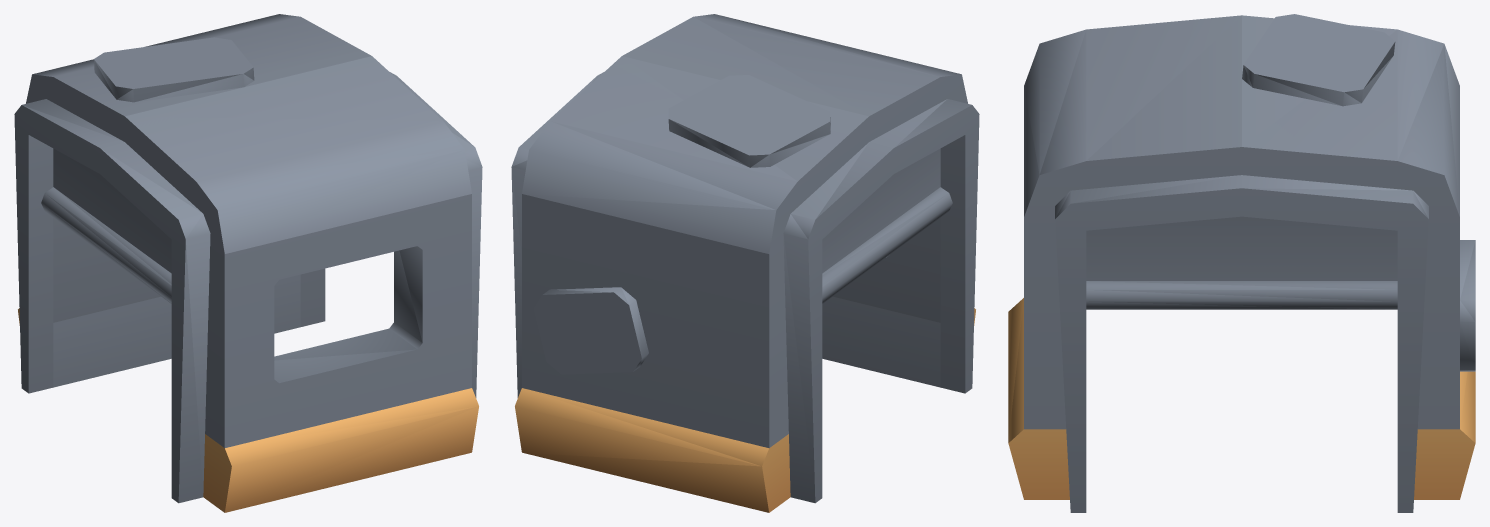
Rendered from factory_machine.fbx.
3 renders of one model, left to right at view 1: azimuth 30°, elevation 25°; view 2: azimuth 150°, elevation 25°; view 3: azimuth 270°, elevation 25°, orthographic. The views are drawn at different scales.
Visible parts, largest first — view 1: factory_machine_LOD0; view 2: factory_machine_LOD0; view 3: factory_machine_LOD0.
Boxes of the visible parts, left/top/right/bottom form: factory_machine_LOD0: left=14, top=14, right=482, bottom=512; factory_machine_LOD0: left=511, top=14, right=979, bottom=512; factory_machine_LOD0: left=1008, top=14, right=1475, bottom=512.
Size of what is drawn, in the model's own units: 2 by 2.17 by 2.5.
1 material, 1 textured.
